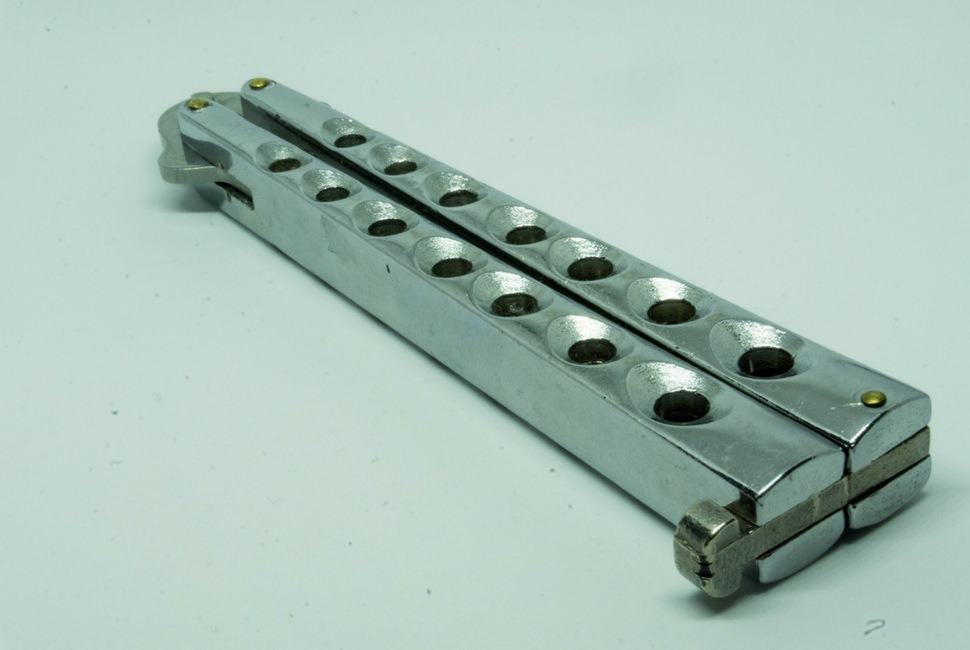knife: (143, 72, 933, 614)
